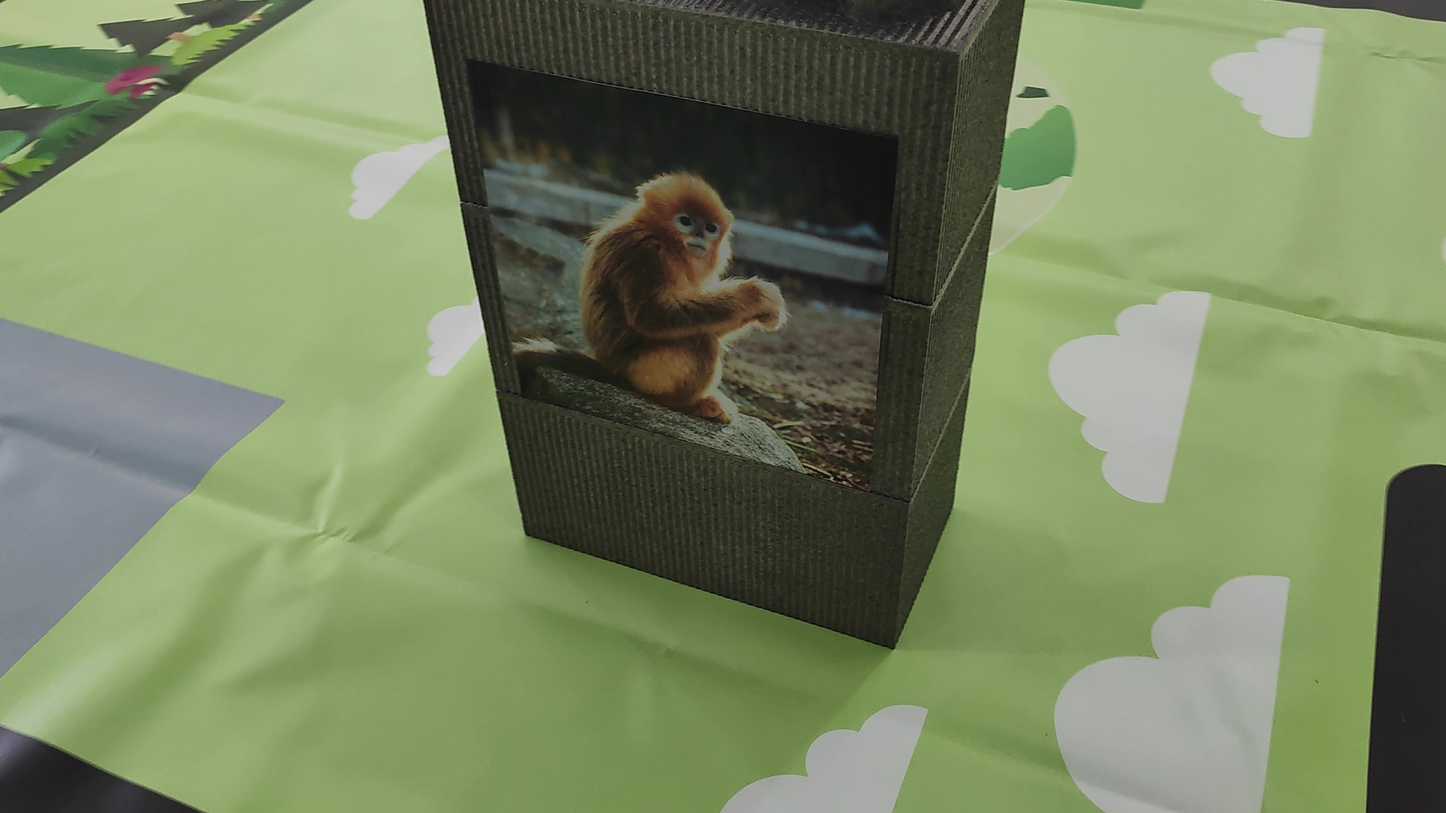monkey: (573, 174, 790, 428)
